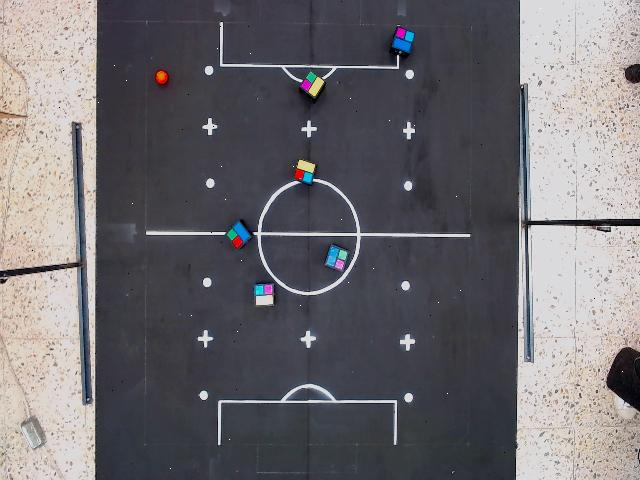robot: (224, 219, 253, 252), (323, 242, 351, 274), (298, 70, 327, 99), (390, 25, 417, 55), (251, 281, 278, 309), (292, 157, 317, 187)
